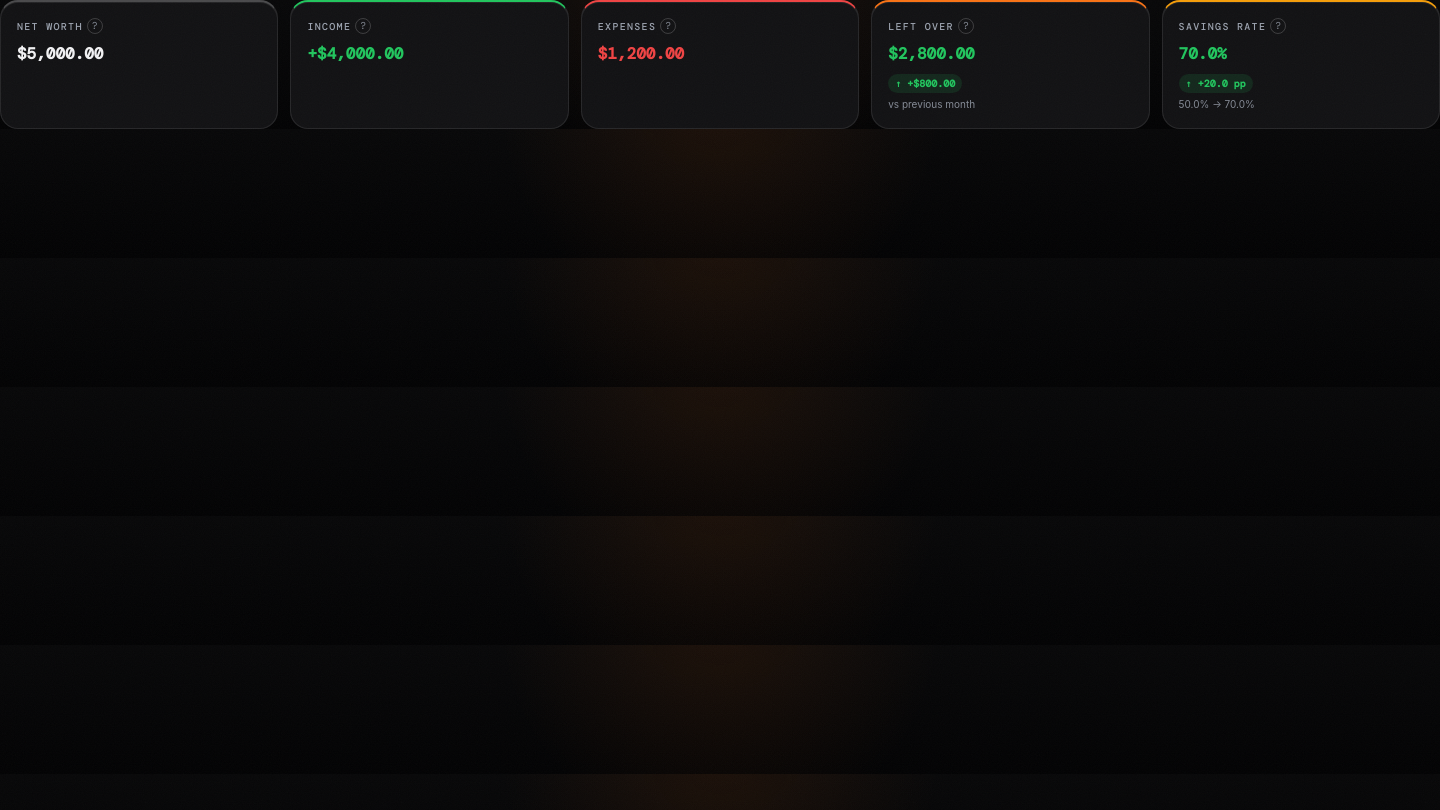
it: AnalyticsMetricGrid › opens the savings explanation on click
Click the button named "How Left over is calculated" at (966, 26), box [954,14,978,38]
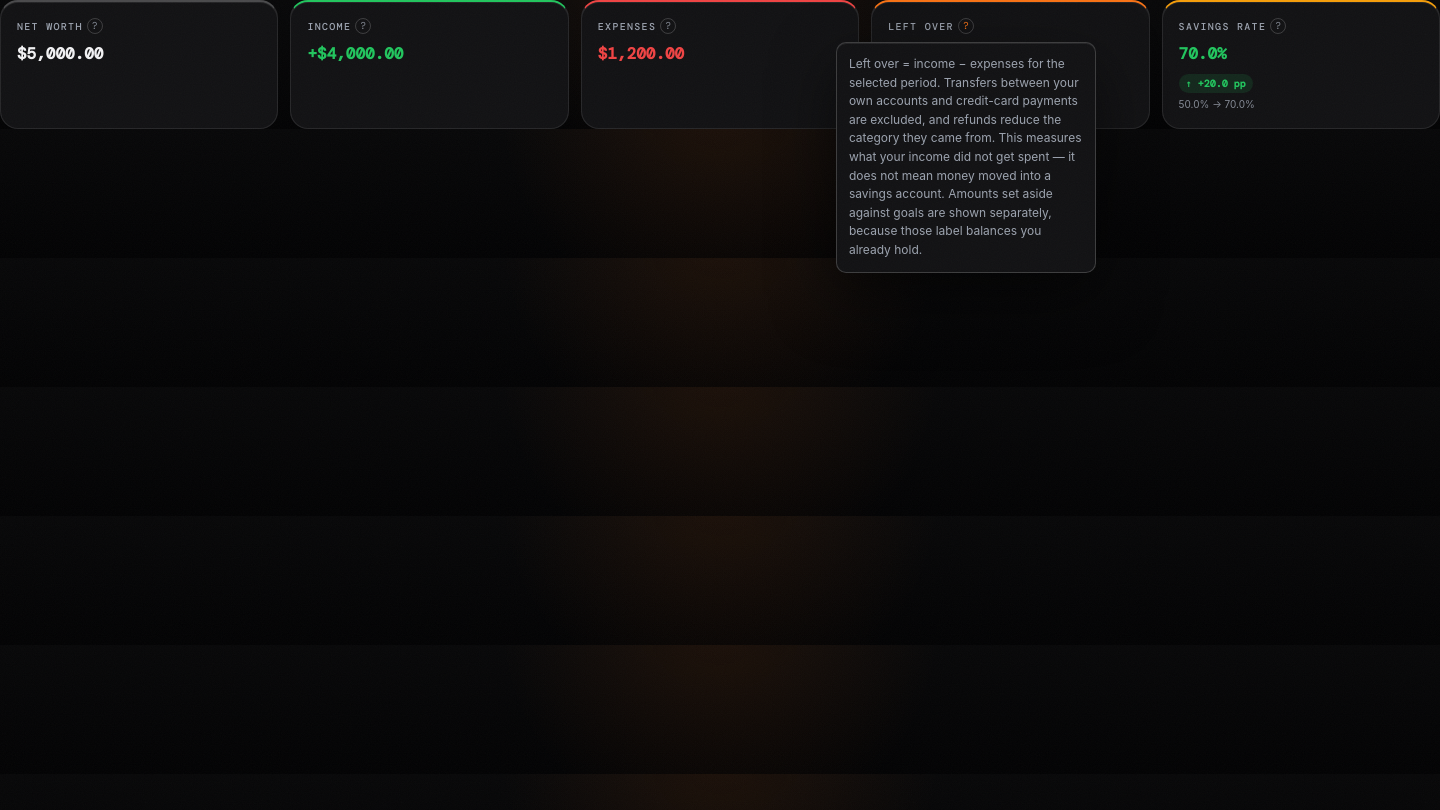
expect the tooltip shows "Left over = income − expenses": met, box [849,56,1082,257]
expect the tooltip shows "does not mean money moved into a savings account": met, box [849,56,1082,257]
